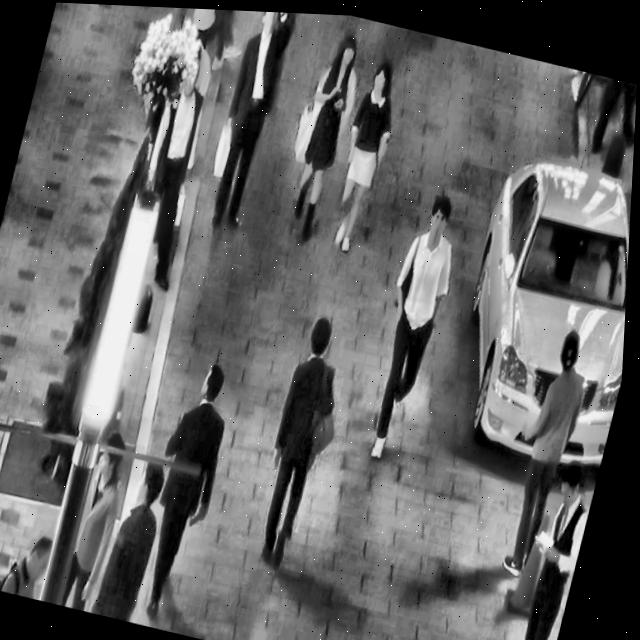light_vehicle: (431, 122, 636, 478)
